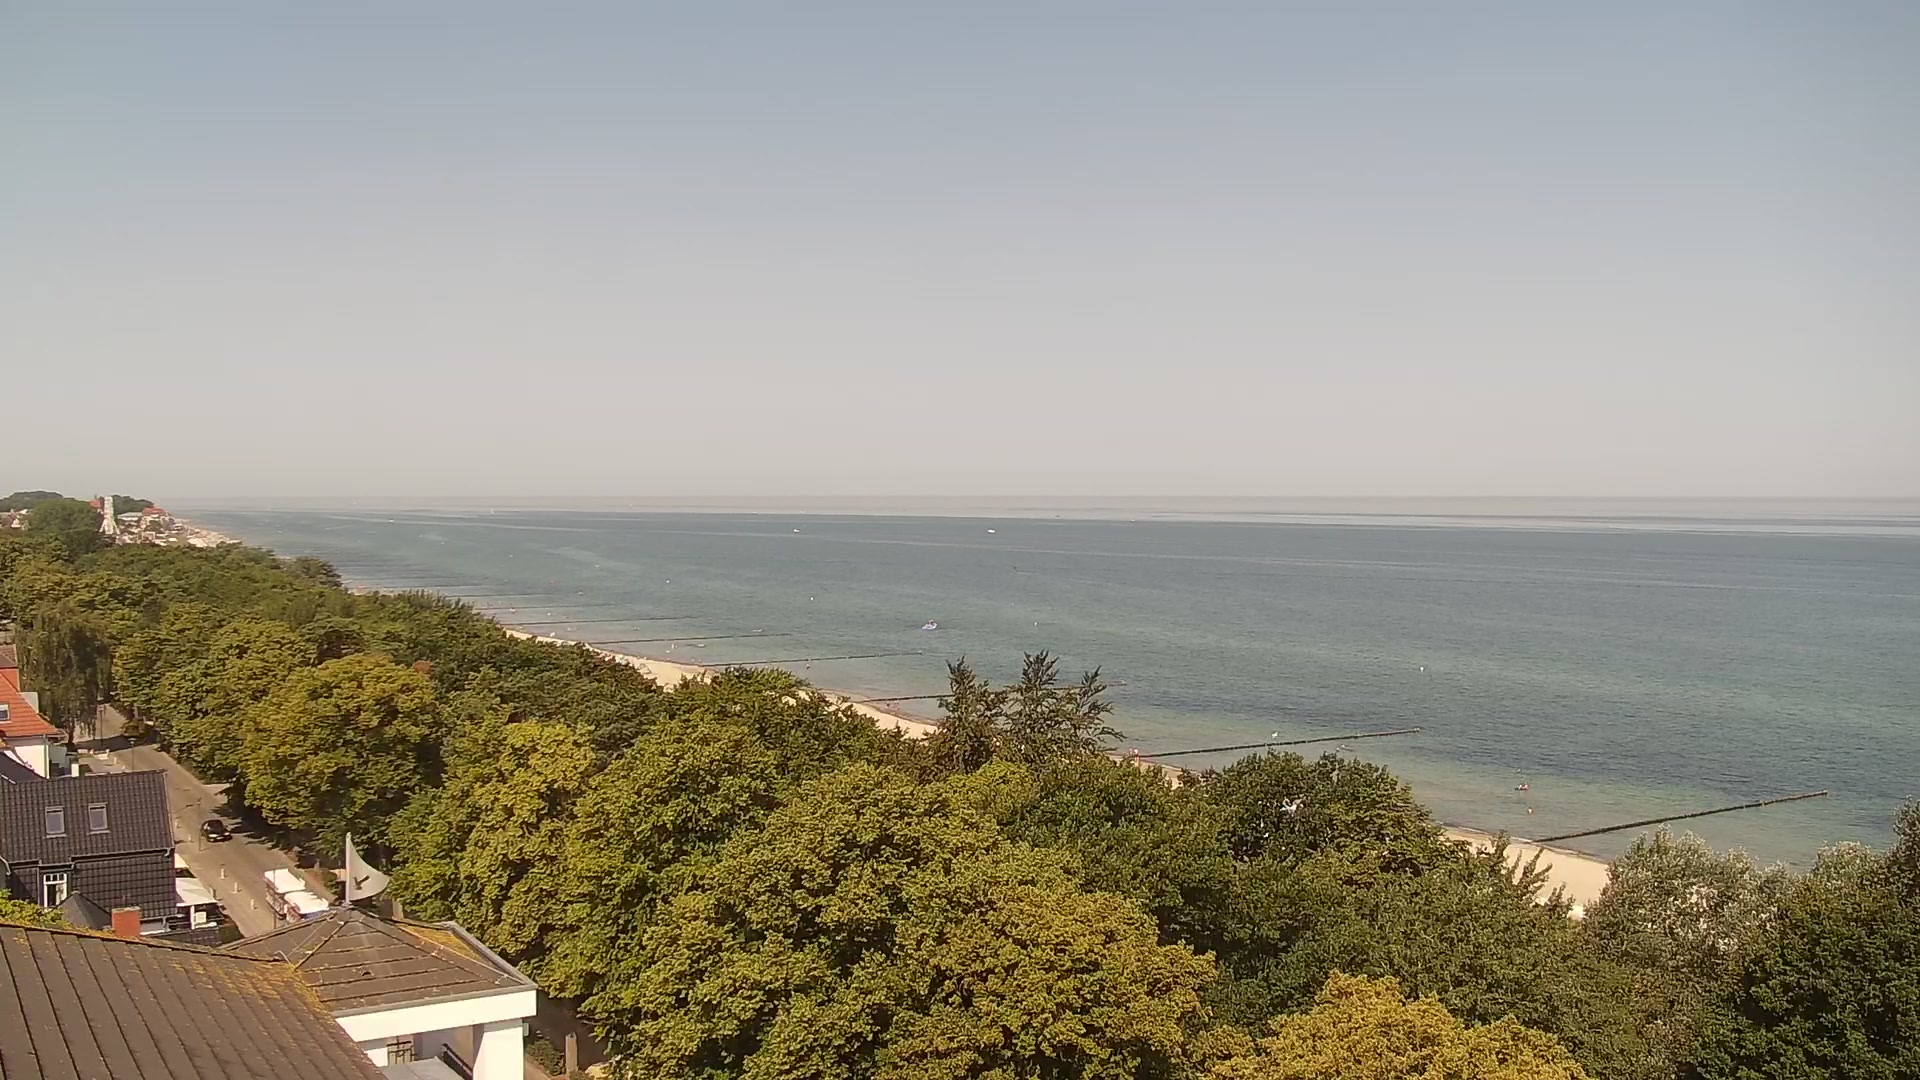human: (1133, 747, 1139, 756), (1128, 746, 1134, 755)
land: (201, 819, 232, 843)
sea: (922, 618, 938, 630), (1514, 782, 1529, 790), (987, 527, 996, 534), (793, 528, 800, 533)
